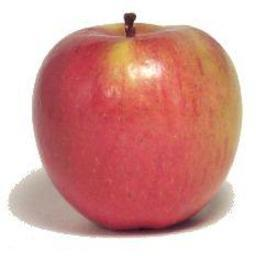apple: (30, 22, 240, 228)
